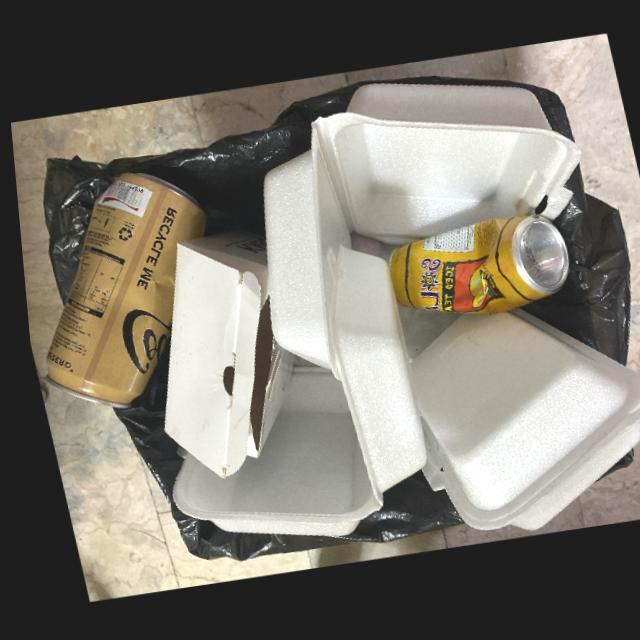aluminum: (39, 171, 203, 407), (384, 215, 564, 315)
cardboard: (156, 230, 289, 478)
